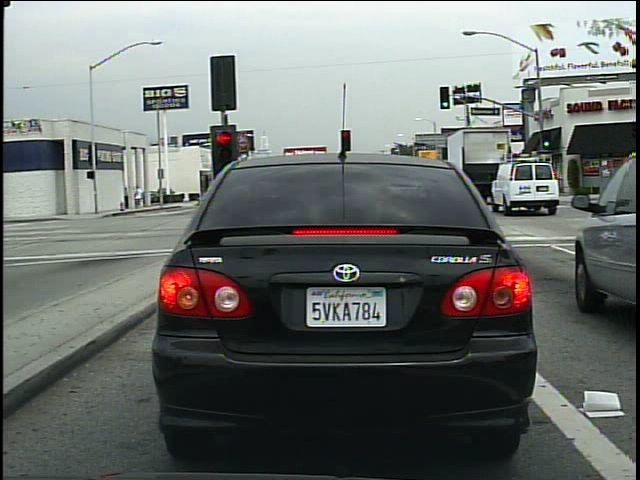person: (517, 169, 532, 202), (134, 182, 145, 211)
